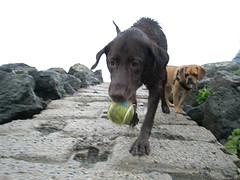tennis ball: (108, 101, 135, 126)
